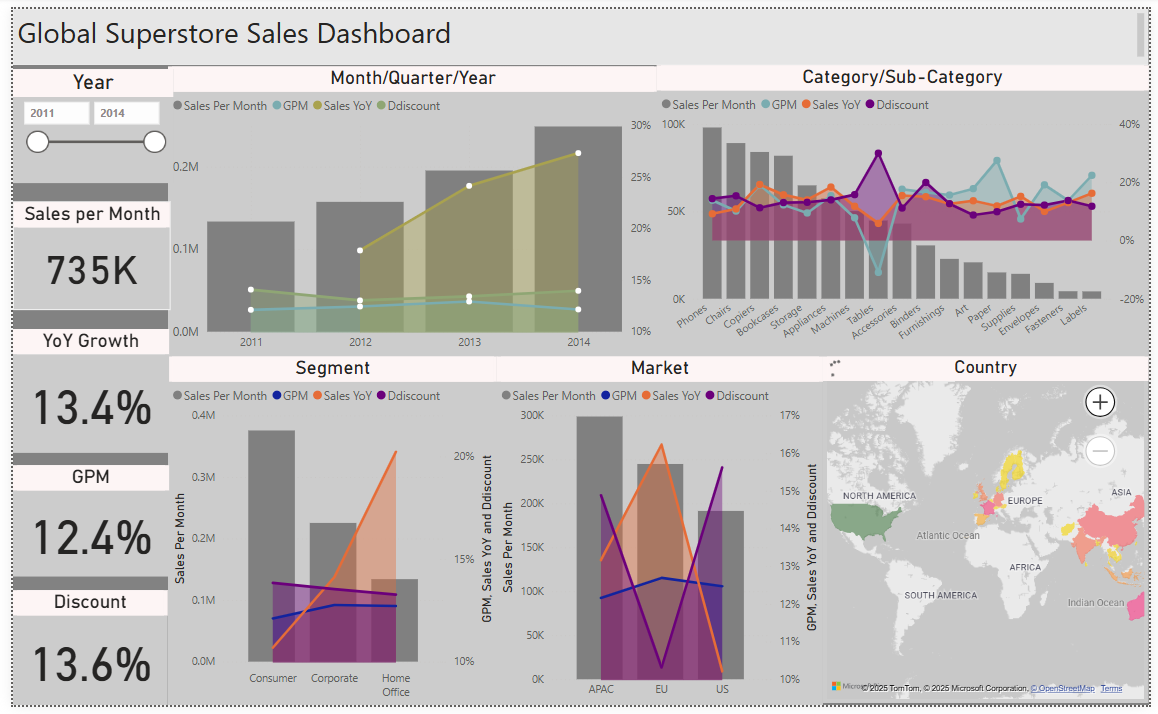

This screenshot's page, from the dashboard's own definition file:
{"tool":"powerbi","page":{"name":"Page 1","canvas":[1298,795],"ordinal":0},"visuals":[{"type":"textbox","box":[0,0,1297.7,64.3],"z":0},{"type":"lineClusteredColumnComboChart","title":"Month/Quarter/Year","fields":{"Y2":["GlobalSS.GPM","GlobalSS.Sales YoY","GlobalSS.Ddiscount"],"Category":["Calendar.Year","Calendar.Quarter","Calendar.Month"],"Y":["GlobalSS.Sales Per Month"]},"box":[177,65,560,333],"z":1000},{"type":"slicer","title":"Year","fields":{"Values":["Calendar.Year"]},"box":[0,69.1,183.3,130.3],"z":2000},{"type":"lineClusteredColumnComboChart","title":"Category/Sub-Category","fields":{"Y2":["GlobalSS.GPM","GlobalSS.Sales YoY","GlobalSS.Ddiscount"],"Y":["GlobalSS.Sales Per Month"],"Category":["GlobalSS.Sub-Category"]},"box":[736.1,64,562.2,336.7],"z":3000},{"type":"lineClusteredColumnComboChart","title":"Segment","fields":{"Y2":["GlobalSS.GPM","GlobalSS.Sales YoY","GlobalSS.Ddiscount"],"Category":["GlobalSS.Segment"],"Y":["GlobalSS.Sales Per Month"]},"box":[176.9,397,376.7,399.7],"z":4000},{"type":"lineClusteredColumnComboChart","title":"Market","fields":{"Y2":["GlobalSS.GPM","GlobalSS.Sales YoY","GlobalSS.Ddiscount"],"Category":["GlobalSS.Market"],"Y":["GlobalSS.Sales Per Month"]},"box":[553.2,397.2,373.1,398.8],"z":5000},{"type":"card","title":"Sales per Month","fields":{"Values":["GlobalSS.Sales Per Month"]},"box":[0,220.3,180.1,123.8],"z":6000},{"type":"filledMap","title":"Country","fields":{"Category":["GlobalSS.Country"]},"box":[926,397,372,396],"z":7000},{"type":"card","title":"Discount","fields":{"Values":["GlobalSS.Ddiscount"]},"box":[0,664.3,176.9,131],"z":8000},{"type":"card","title":"GPM","fields":{"Values":["GlobalSS.GPM"]},"box":[0,521.2,178.2,126.9],"z":9000},{"type":"card","title":"YoY Growth","fields":{"Values":["GlobalSS.Sales YoY"]},"box":[0,365.9,178.2,141.8],"z":10000}]}

Visuals, with their boxes in screenshot pixels (x1, y1, x2, y2), scaled from the page's 1298x795 canvas onto the 1158x714 screenshot:
textbox: locate(0, 0, 1157, 58)
"Month/Quarter/Year" lineClusteredColumnComboChart: locate(158, 58, 658, 357)
"Year" slicer: locate(0, 62, 164, 179)
"Category/Sub-Category" lineClusteredColumnComboChart: locate(657, 57, 1157, 360)
"Segment" lineClusteredColumnComboChart: locate(158, 357, 494, 713)
"Market" lineClusteredColumnComboChart: locate(494, 357, 826, 713)
"Sales per Month" card: locate(0, 198, 161, 309)
"Country" filledMap: locate(826, 357, 1157, 712)
"Discount" card: locate(0, 597, 158, 713)
"GPM" card: locate(0, 468, 159, 582)
"YoY Growth" card: locate(0, 329, 159, 456)
